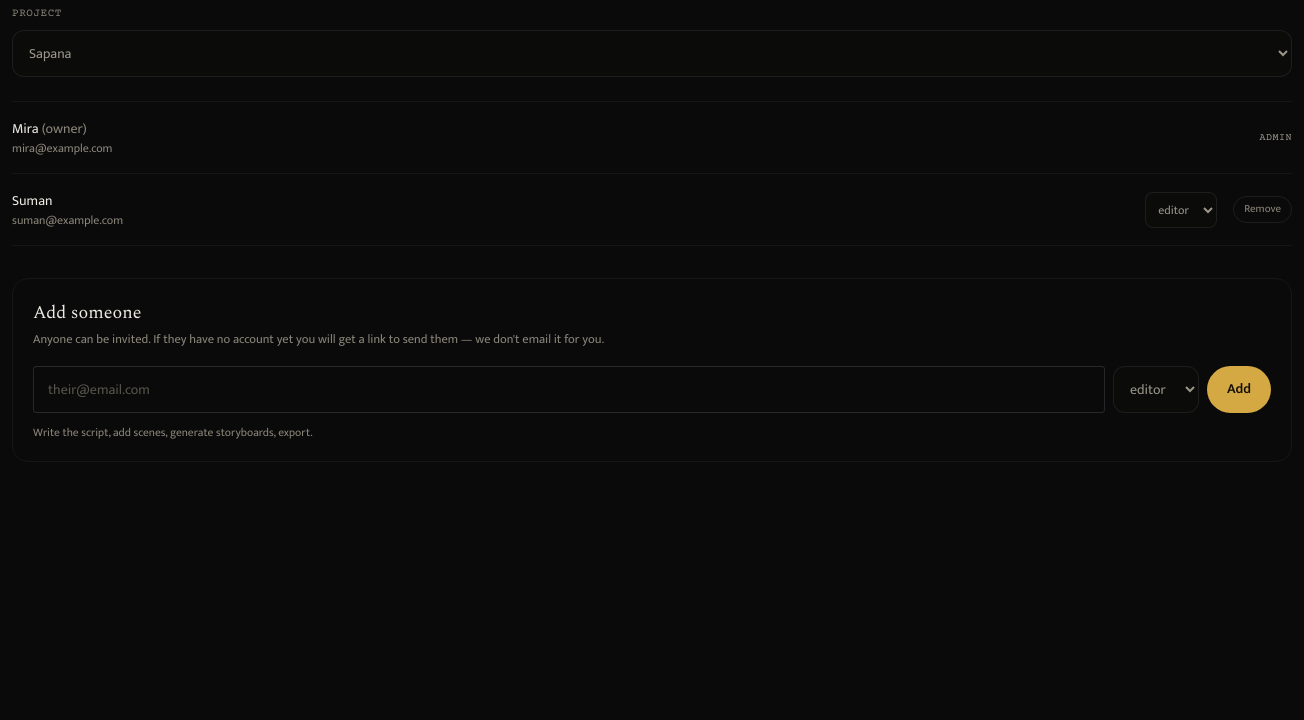
Test case: adding someone › confirms in words the writer can check
Expected: the text "suman@example.com" is shown, x1=12 y1=210 x2=123 y2=230
Step 1. Type "new@example.com" into the field labelled "email" → coordinates (569, 389), box x1=33 y1=366 x2=1105 y2=413
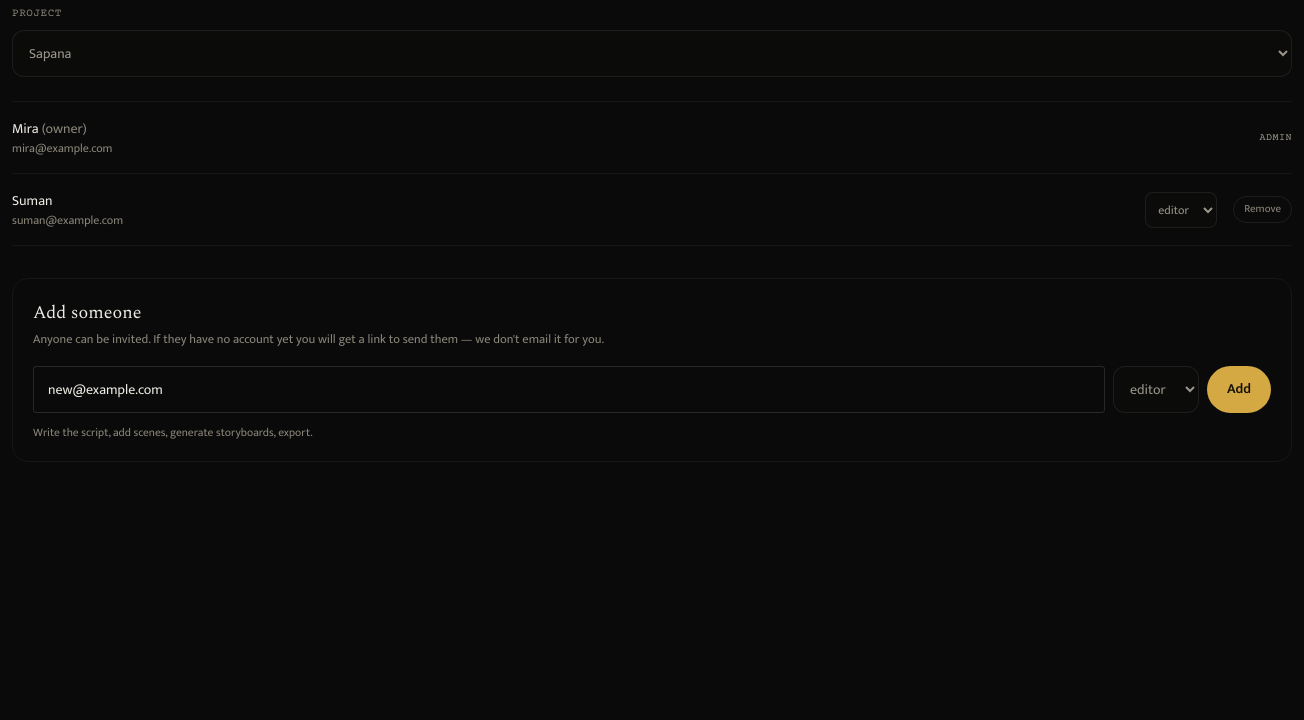
Step 2. Click the button "Add" → coordinates (1239, 389), box x1=1207 y1=366 x2=1271 y2=413
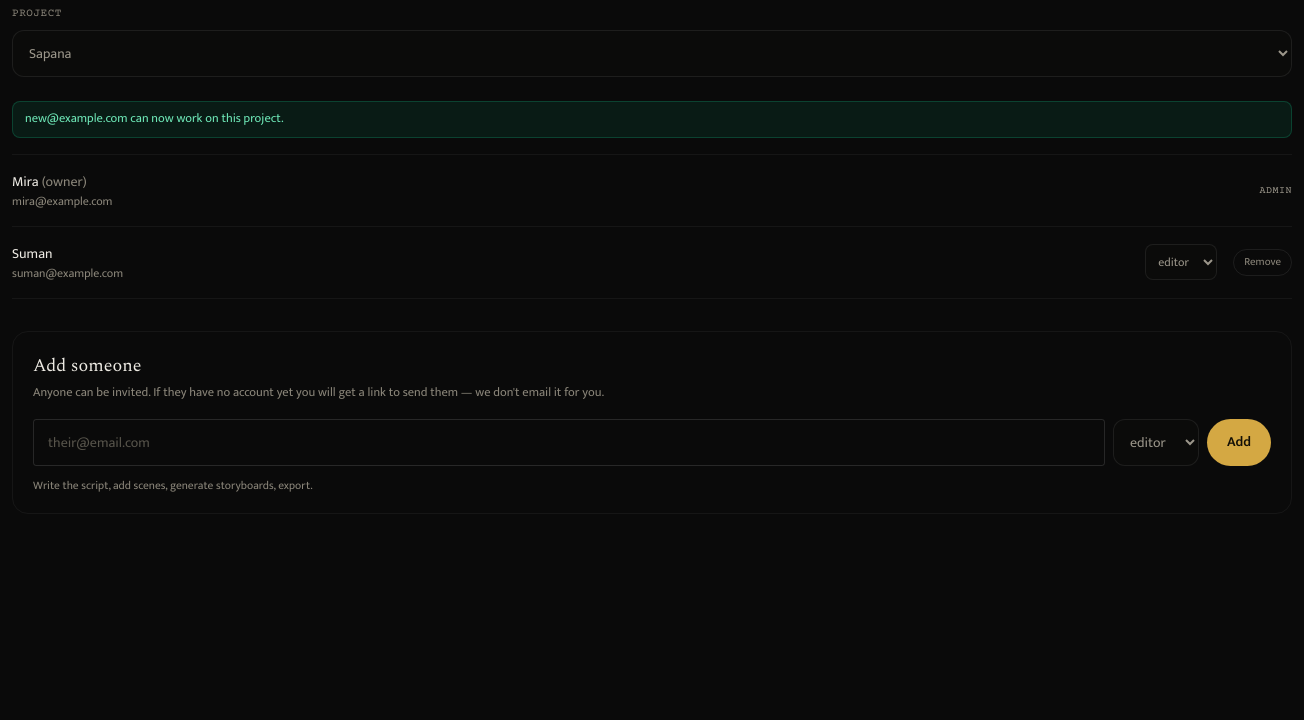
Expected: the text "new@example.com can now work on this project." is shown, x1=12 y1=101 x2=1292 y2=138
